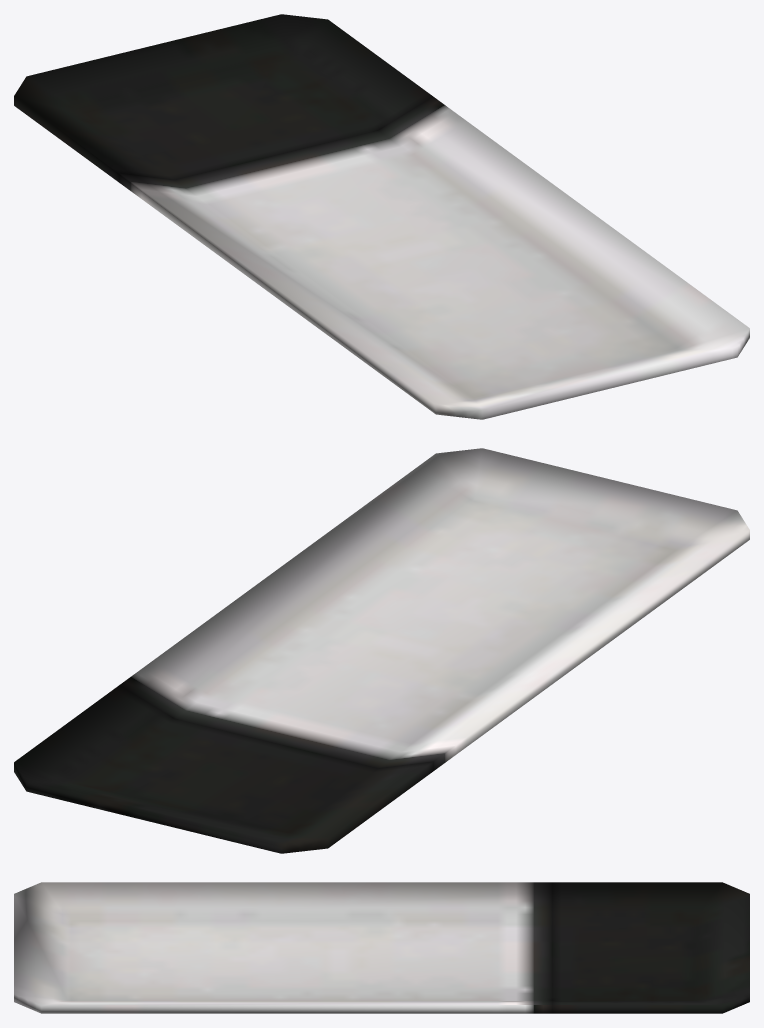
Rendered from Plate_Ceramic03.FBX.
3 views of the same model, one above another, from view 1: azimuth 30°, elevation 25°; view 2: azimuth 150°, elevation 25°; view 3: azimuth 270°, elevation 25° (orthographic). The views are drawn at different scales.
Parts seen in each view (by area): view 1: Plate_Ceramic03; view 2: Plate_Ceramic03; view 3: Plate_Ceramic03.
Part boxes in pixels (box(x1,y1,x2,y2)): Plate_Ceramic03: box(14, 14, 749, 419); Plate_Ceramic03: box(14, 448, 749, 853); Plate_Ceramic03: box(14, 882, 749, 1013).
Size of the model in its own units: 0.1994 by 0.0182 by 0.5014.
